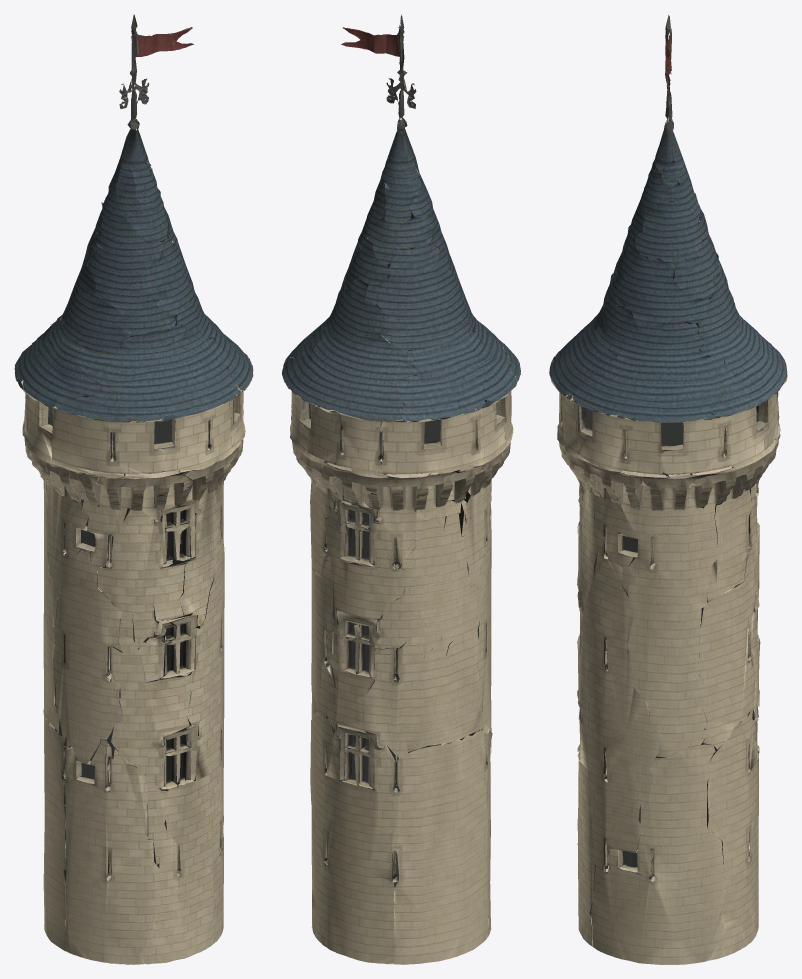
File: tour.glb
3 renders of one model, left to right at view 1: azimuth 30°, elevation 25°; view 2: azimuth 150°, elevation 25°; view 3: azimuth 270°, elevation 25°, orthographic.
Parts seen in each view (by area): view 1: tour; view 2: tour; view 3: tour.
Part boxes in pixels (x1,y1,x2,y2): tour: (14, 14, 253, 964); tour: (282, 14, 520, 964); tour: (549, 15, 787, 964).
Size of the model in its own units: 7.1 by 29.98 by 7.09.
1 material, 1 textured.
